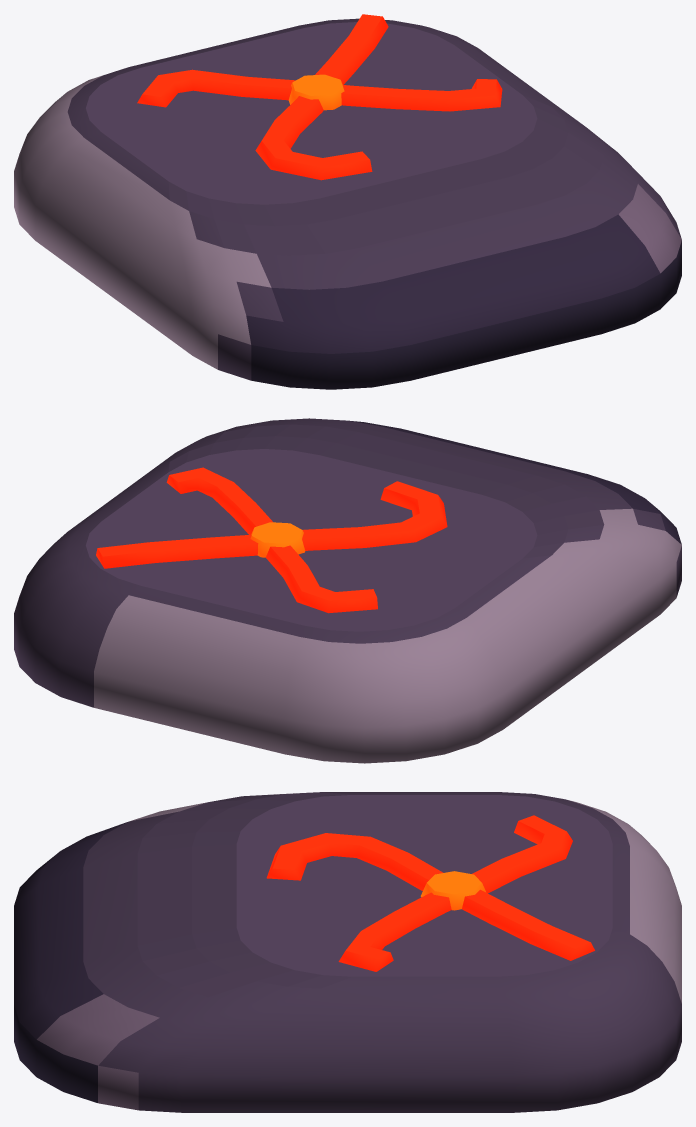
The model's file is newshm-53.glb.
3 renders of one model, top to bottom at view 1: azimuth 30°, elevation 25°; view 2: azimuth 150°, elevation 25°; view 3: azimuth 270°, elevation 25°, orthographic. The views are drawn at different scales.
Parts seen in each view (by area): view 1: newshm-53; view 2: newshm-53; view 3: newshm-53.
Boxes of the visible parts, left/top/right/bottom form: newshm-53: left=14, top=14, right=681, bottom=389; newshm-53: left=14, top=418, right=681, bottom=763; newshm-53: left=14, top=792, right=681, bottom=1112.
Size of the model in its own units: 1.92 by 0.447 by 2.25.
